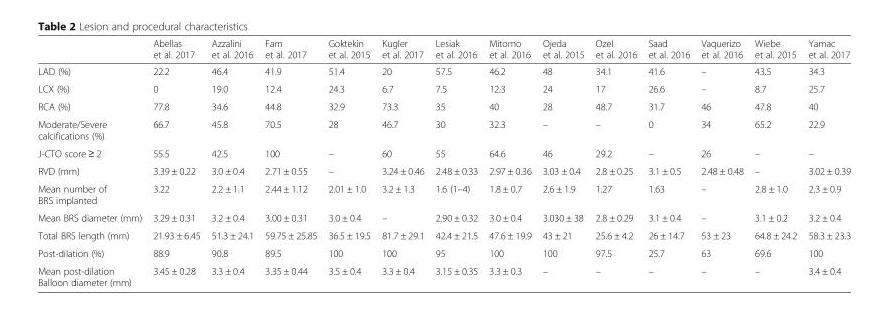table: (38, 37, 851, 287)
table column: (38, 37, 147, 287), (259, 37, 323, 287), (147, 37, 206, 287), (376, 37, 430, 287), (483, 37, 537, 287), (695, 37, 749, 287), (749, 37, 803, 287), (206, 37, 259, 287), (323, 37, 376, 287), (430, 37, 483, 287), (537, 37, 590, 287), (590, 37, 643, 287), (643, 37, 695, 287), (803, 37, 851, 287)
table column header: (38, 37, 851, 62)
table row: (38, 179, 851, 208), (38, 115, 851, 143), (38, 261, 851, 287), (38, 37, 851, 62), (38, 79, 851, 97), (38, 97, 851, 115), (38, 143, 851, 161), (38, 161, 851, 179), (38, 208, 851, 226), (38, 226, 851, 244), (38, 62, 851, 79), (38, 244, 851, 261)
